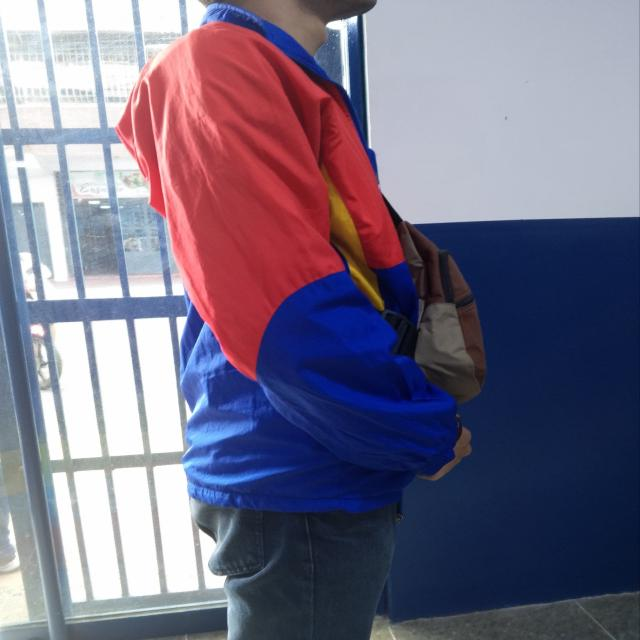chaqueta_unefa: (113, 2, 467, 516)
pantalon_oscuro: (189, 495, 401, 640)
